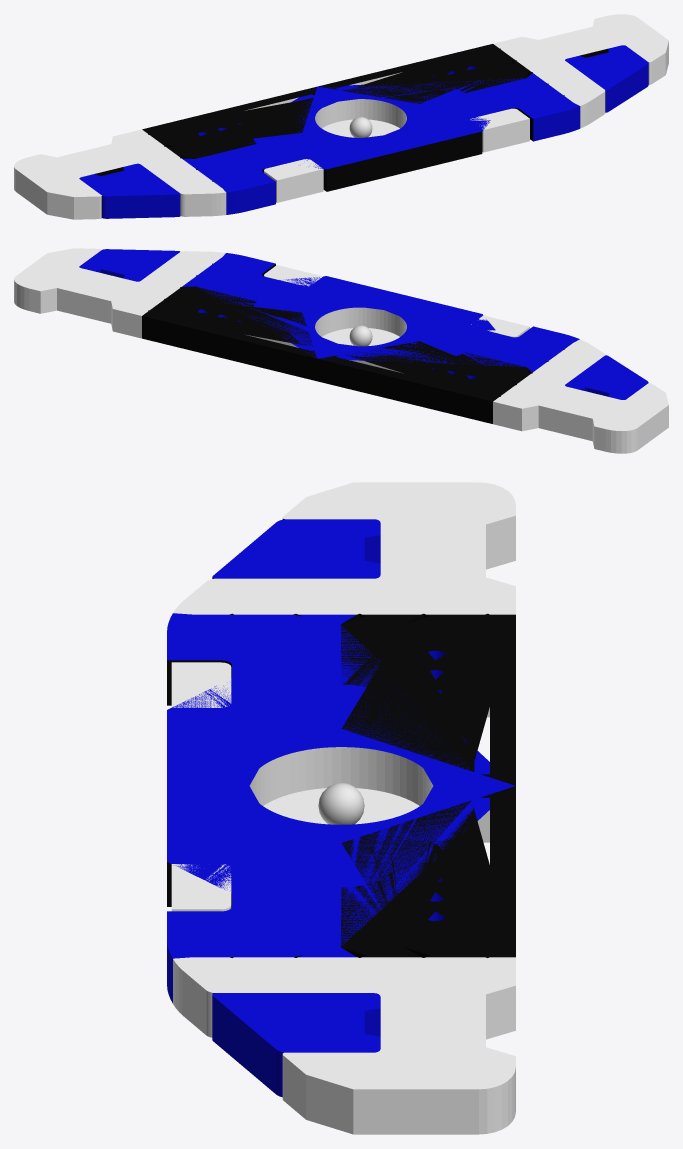
The model's file is HOVERBOARD.fbx.
3 views of the same model, one above another, from view 1: azimuth 30°, elevation 25°; view 2: azimuth 150°, elevation 25°; view 3: azimuth 270°, elevation 25° (orthographic). The views are drawn at different scales.
Parts seen in each view (by area): view 1: Cube.001, Cube, Cube.002, Icosphere; view 2: Cube.001, Cube, Cube.002, Icosphere; view 3: Cube.001, Cube, Cube.002, Icosphere.
Boxes of the visible parts, <box> form: Cube.001: <box>14,14,668,219</box>; Cube: <box>79,45,648,218</box>; Cube.002: <box>264,108,529,202</box>; Icosphere: <box>349,117,372,137</box>; Cube.001: <box>14,248,668,453</box>; Cube: <box>79,249,648,399</box>; Cube.002: <box>264,265,529,337</box>; Icosphere: <box>349,325,372,346</box>; Cube.001: <box>167,482,515,1134</box>; Cube: <box>212,519,380,1097</box>; Cube.002: <box>171,662,231,911</box>; Icosphere: <box>318,782,364,824</box>.
Size of the model in its own units: 184 by 6.53 by 44.62.
